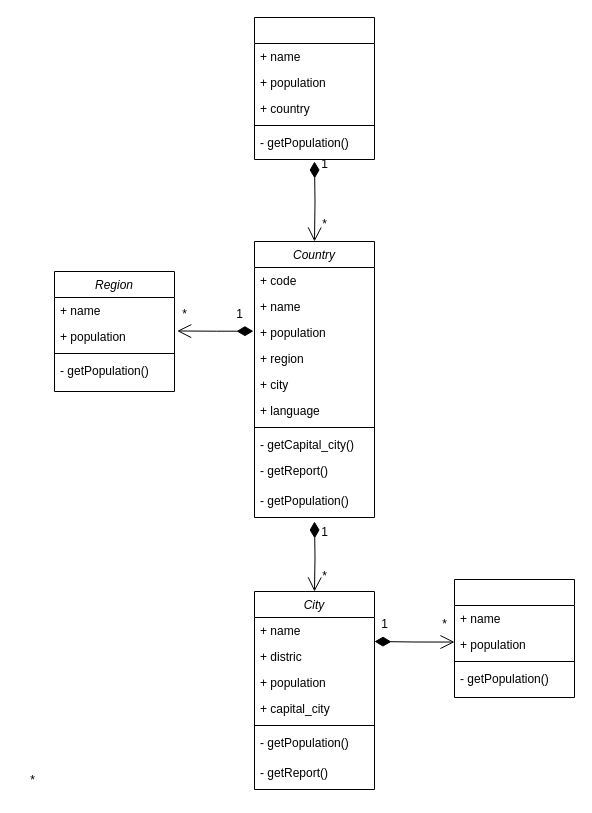
This 592x813 diagram has some shape labels left out. The shapes that lost their labels are listed below. From the top down, each one's box as (x1, y1, x2, y2) in pixels, then its label:
(254, 16, 374, 160): Continent
(454, 578, 574, 698): Distric
